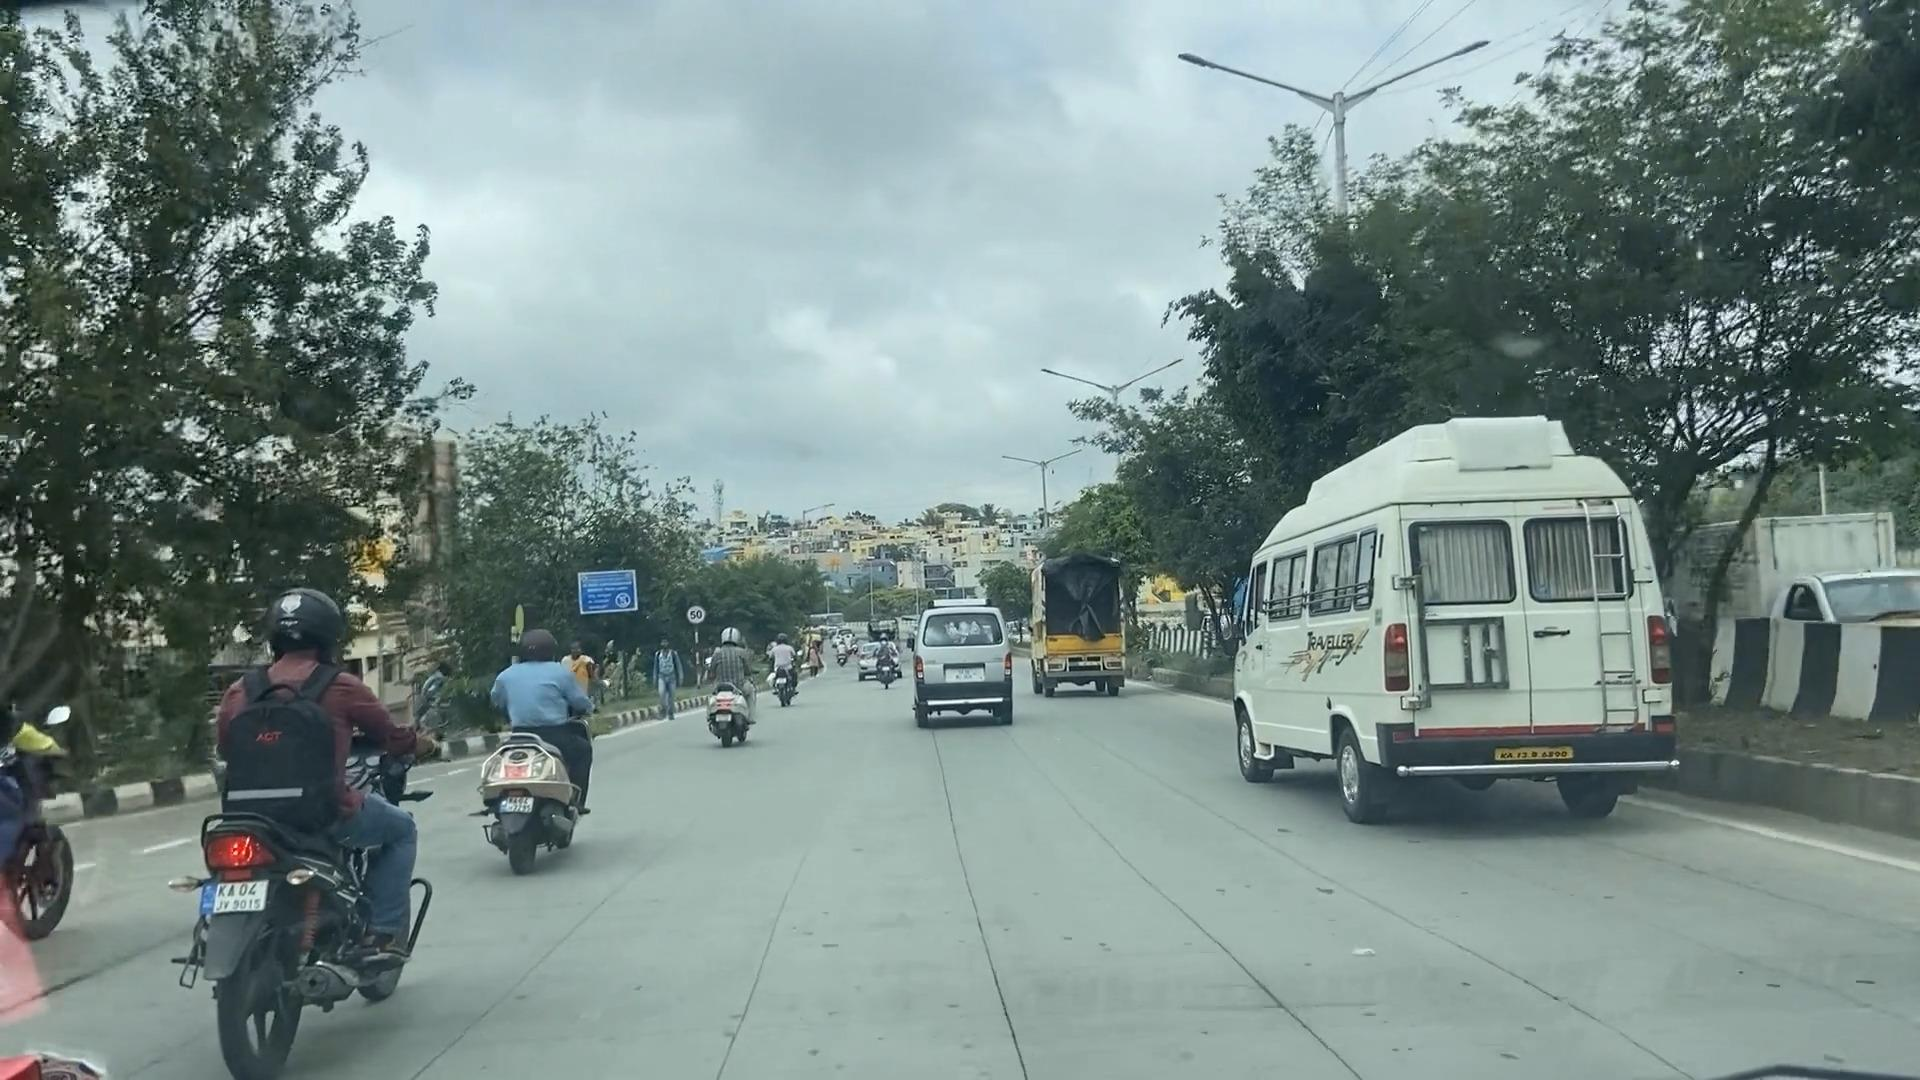HMV: (1196, 471, 1689, 840), (1018, 563, 1131, 696)
LMV: (173, 611, 400, 1018), (473, 638, 599, 866), (906, 605, 1017, 735), (700, 618, 771, 769)
